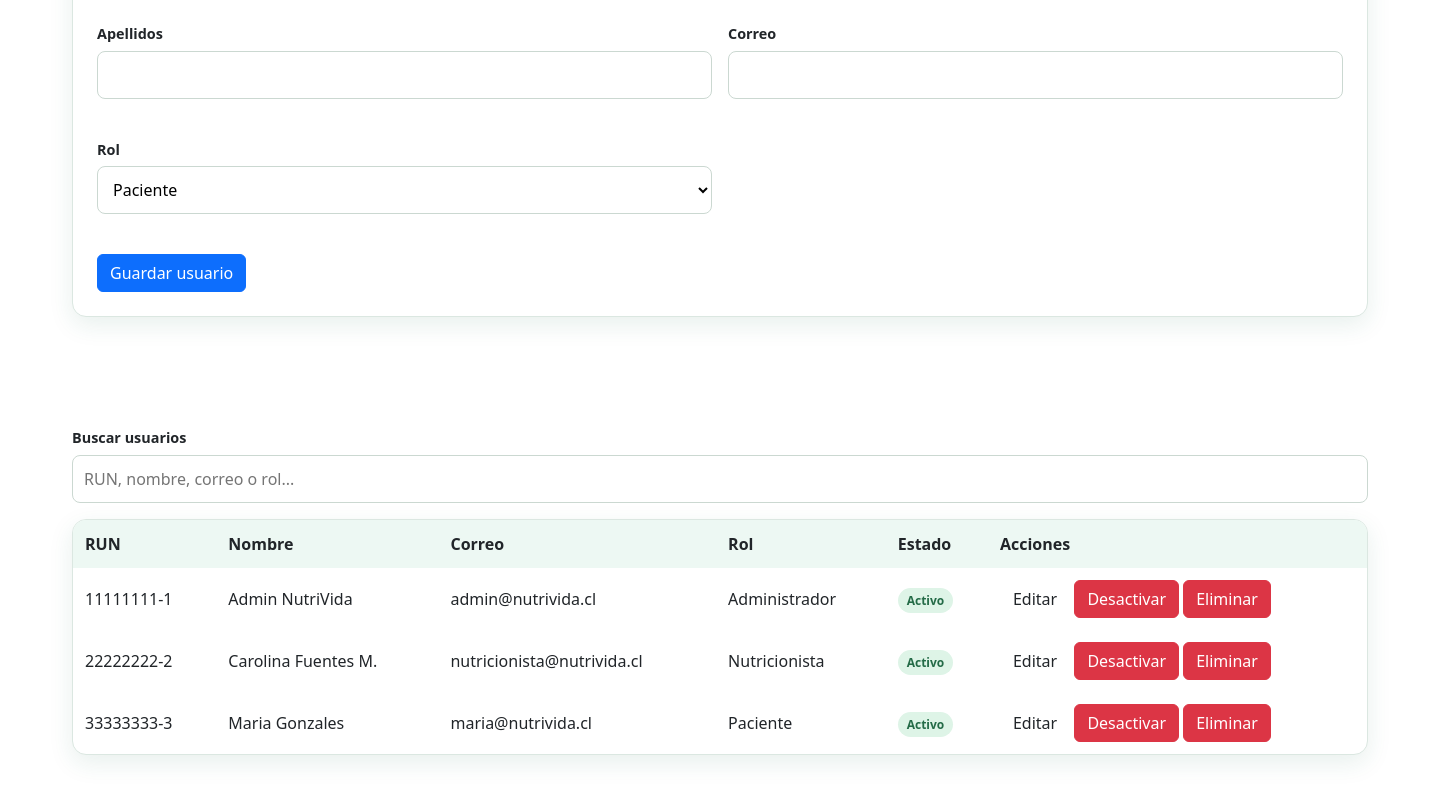
Test case: AdminUsuarios › filtra usuarios por busqueda
(page scrolled)
Type "maria" into the field labelled "Buscar usuarios" at (720, 479), box 72,455 -> 1368,503
(page scrolled)
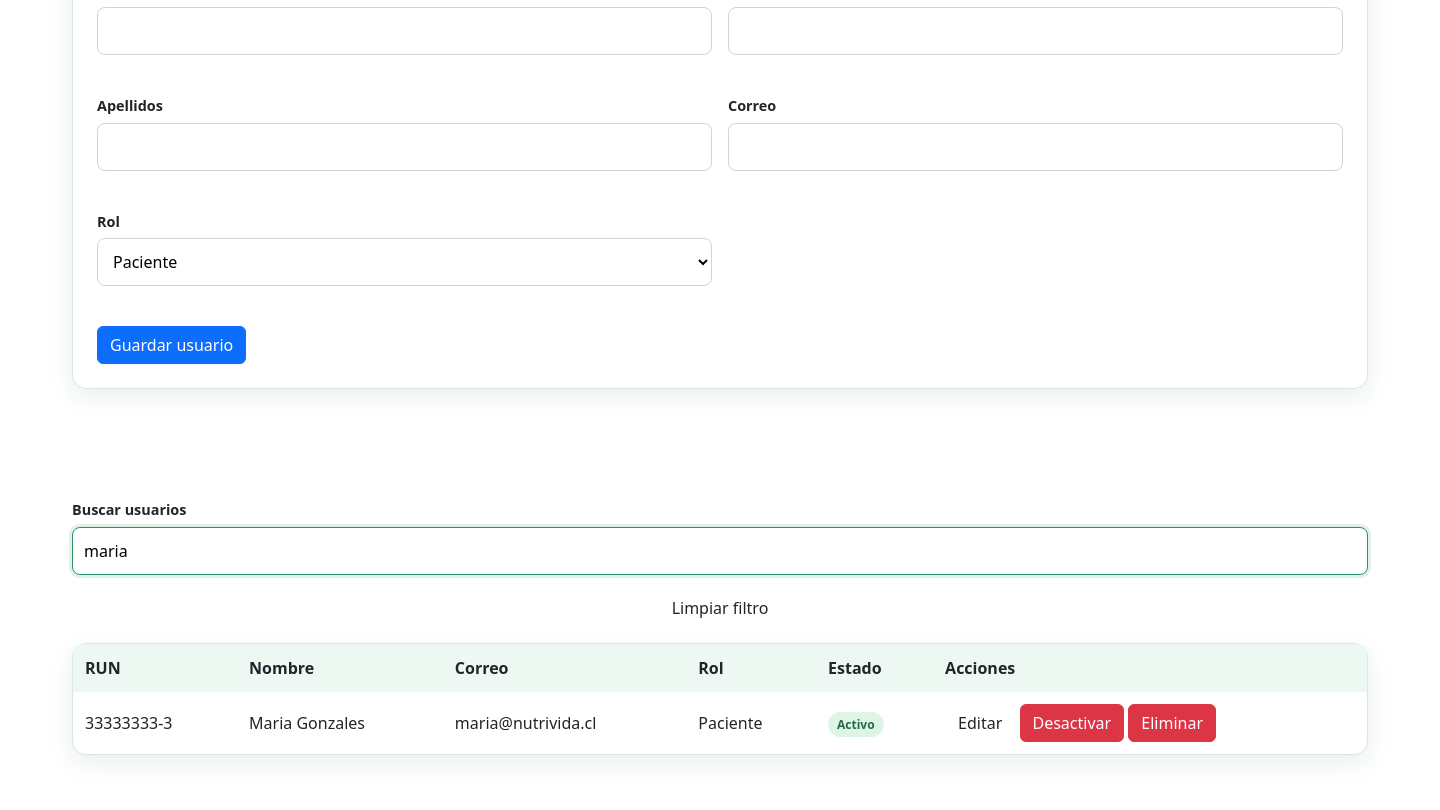
expect the text "Maria Gonzales" is shown: met, box 237,692 -> 443,754
expect the text "Admin NutriVida" is gone: met
